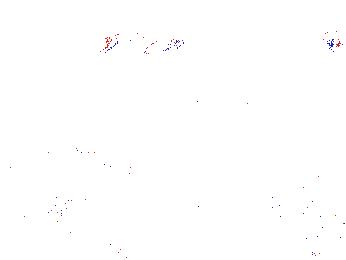glassfish: (40, 130, 135, 196)
red belly glassfish: (321, 27, 341, 54)
redtail glassfish: (98, 31, 187, 60), (1, 27, 22, 63)
